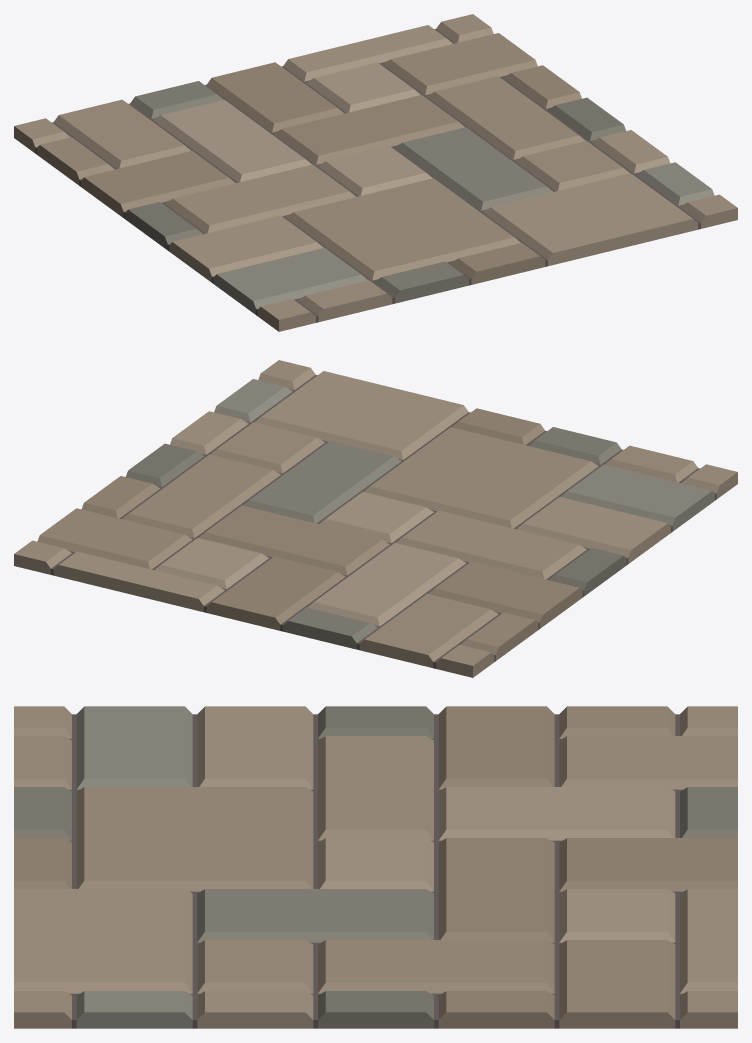
The model's file is church-flagstone-floor-tile-ab3cf2.glb.
3 views of the same model, one above another, from view 1: azimuth 30°, elevation 25°; view 2: azimuth 150°, elevation 25°; view 3: azimuth 270°, elevation 25° (orthographic). The views are drawn at different scales.
Parts seen in each view (by area): view 1: floor; view 2: floor; view 3: floor.
Boxes of the visible parts, x1,y1,x2,y2 form: floor: [14, 14, 737, 331]; floor: [14, 360, 737, 677]; floor: [14, 706, 737, 1028].
Bounding box in the file's own units: 2 × 0.05 × 2.
